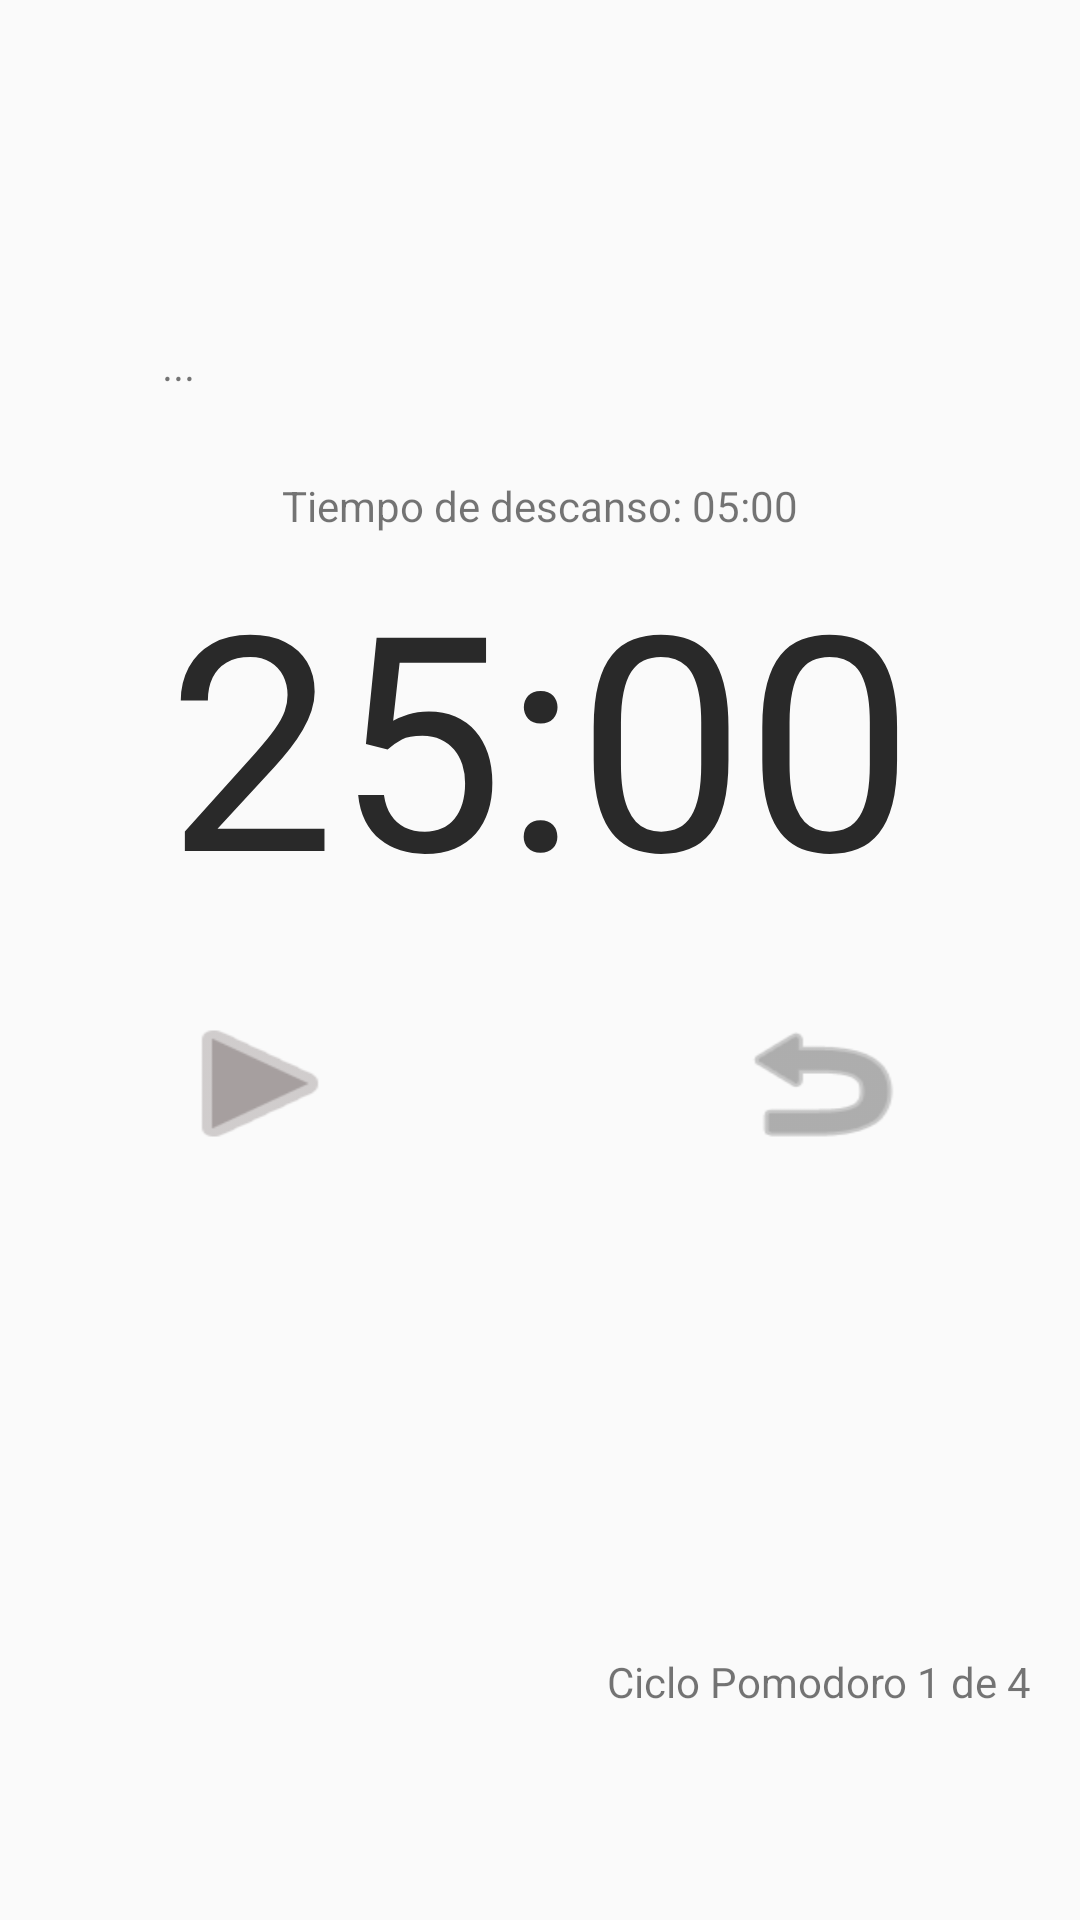

Icons on this 1080px×1920px Android screen, each with its box as [x1,y1,x2,y2]:
play: [202,1031,318,1136]
revert: [755,1033,892,1136]
